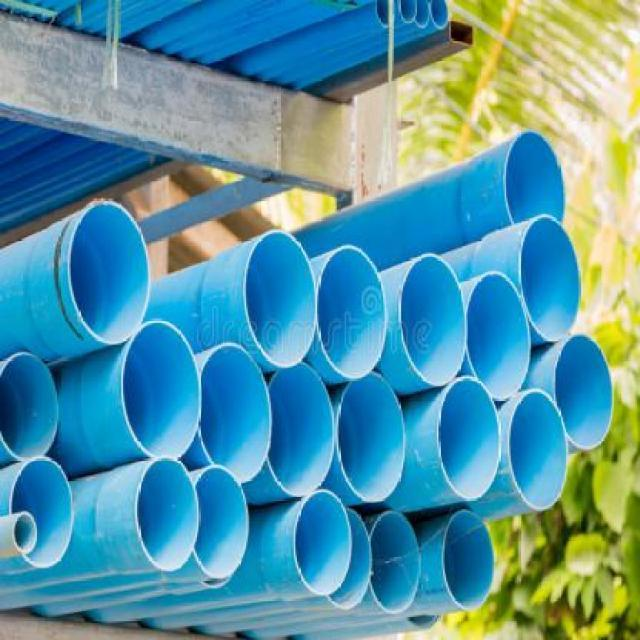pipe: (68, 202, 150, 345), (121, 319, 202, 459), (199, 344, 272, 484), (244, 230, 318, 367), (317, 246, 388, 380), (267, 362, 335, 496), (399, 254, 467, 387), (337, 371, 405, 504), (466, 271, 531, 400), (518, 215, 581, 343), (437, 376, 502, 498), (135, 456, 200, 573), (9, 455, 74, 568), (508, 388, 568, 510), (553, 334, 613, 450), (293, 489, 352, 597), (194, 466, 249, 580), (0, 352, 58, 459), (504, 131, 567, 225), (369, 512, 420, 614), (441, 512, 494, 610), (12, 512, 37, 554), (375, 0, 397, 28), (430, 0, 448, 29), (398, 0, 418, 23), (415, 1, 431, 29)
